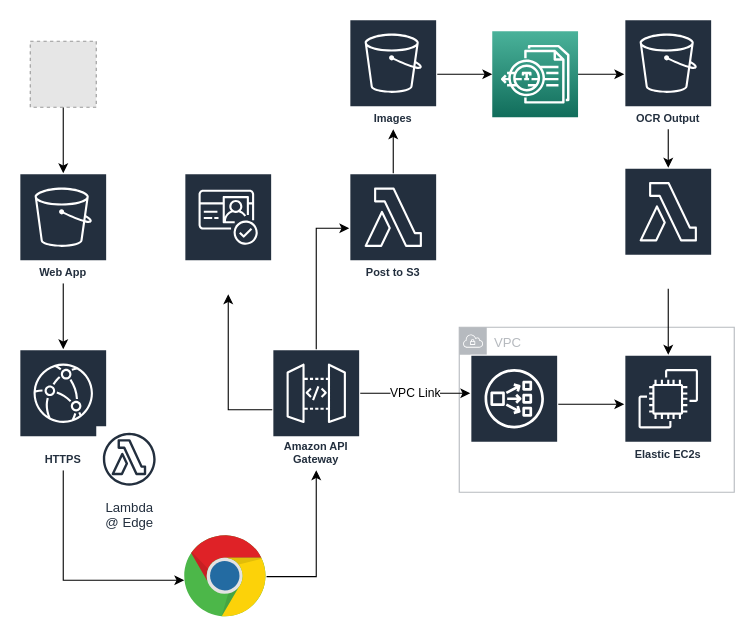
Some shapes in this 754 by 638 pixel diagram are drawn without their labels. Grey dashed boxes stand in for pictures. Each missing label, with the centre of its shape:
Amazon Cognito: the point at 227,233
Network Load Balancer: the point at 513,415
NLP and Post to Elastic: the point at 667,228
Textract OCR: the point at 534,73
